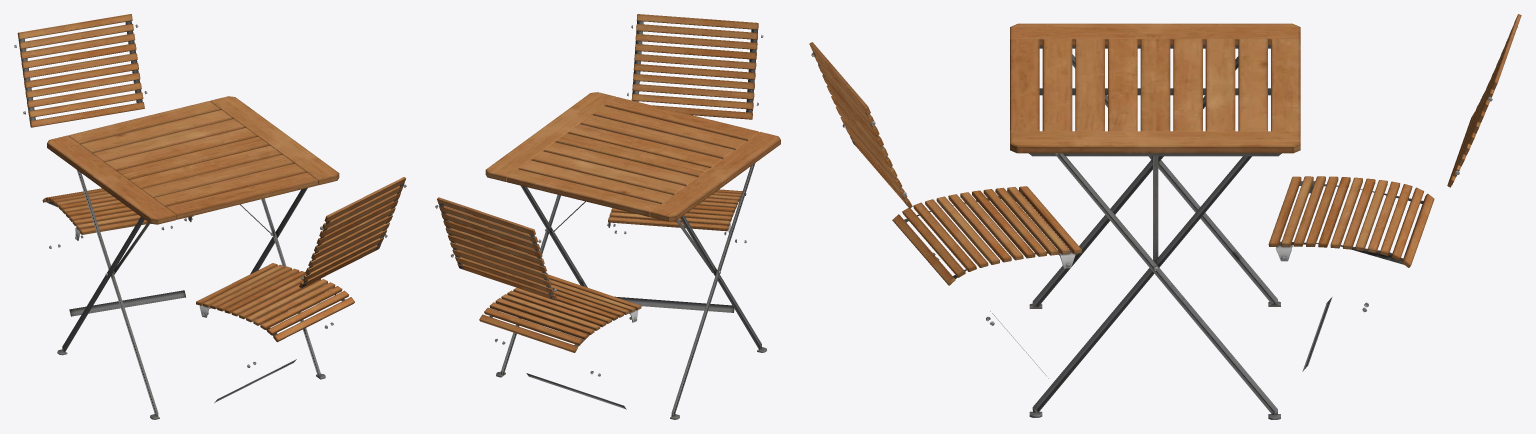
File: outdoor_table_chair_set_01.glb
The picture shows the model from 3 angles, left to right: view 1: azimuth 30°, elevation 25°; view 2: azimuth 150°, elevation 25°; view 3: azimuth 270°, elevation 25°; orthographic projection. The views are drawn at different scales.
Parts seen in each view (by area): view 1: outdoor_table_chair_set_01_table, outdoor_table_chair_set_01_chair_01; view 2: outdoor_table_chair_set_01_chair_01, outdoor_table_chair_set_01_table; view 3: outdoor_table_chair_set_01_table, outdoor_table_chair_set_01_chair_01.
Boxes of the visible parts, <box> form: outdoor_table_chair_set_01_table: <box>47,96,339,419</box>; outdoor_table_chair_set_01_chair_01: <box>14,14,406,402</box>; outdoor_table_chair_set_01_chair_01: <box>435,14,763,409</box>; outdoor_table_chair_set_01_table: <box>485,92,780,419</box>; outdoor_table_chair_set_01_table: <box>1010,23,1300,419</box>; outdoor_table_chair_set_01_chair_01: <box>809,14,1521,378</box>.
Bounding box in the file's own units: 0.7404 × 0.8468 × 1.7.
Materials: 2 (2 with a texture image).
